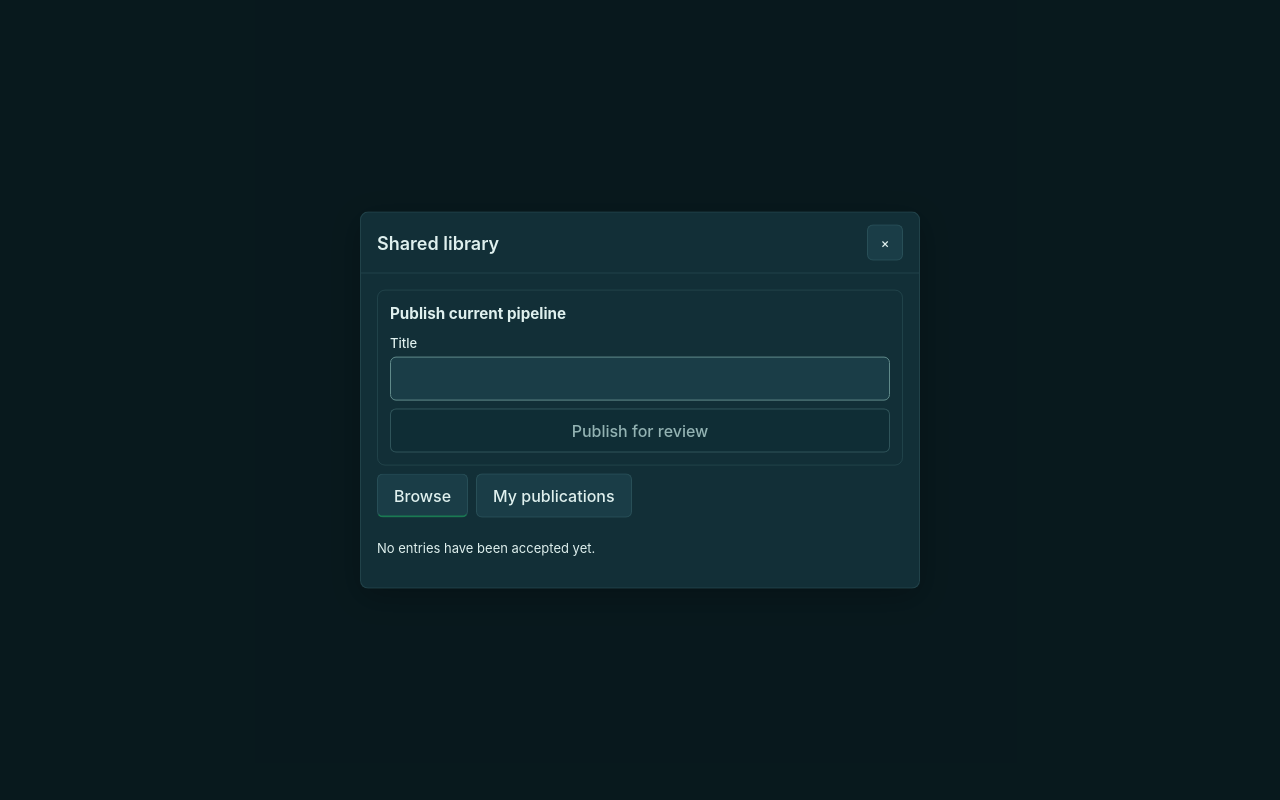
Test: LibraryDialog › names a profile-bound source when publication is refused
Type "Invoice triage" into the field labelled "Title". click: (640, 379)
box: [390,357,890,401]
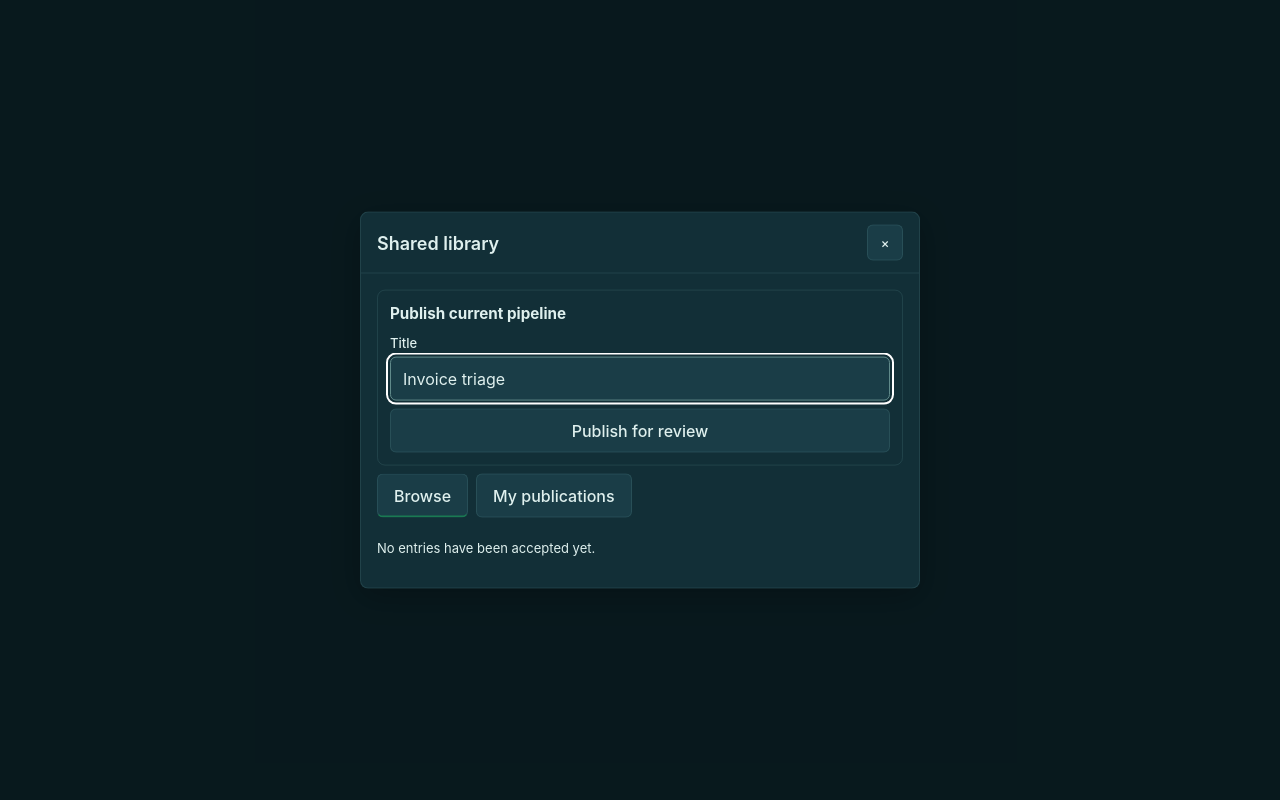
Click the button "Publish for review". click: (640, 431)
box: [390,409,890,453]
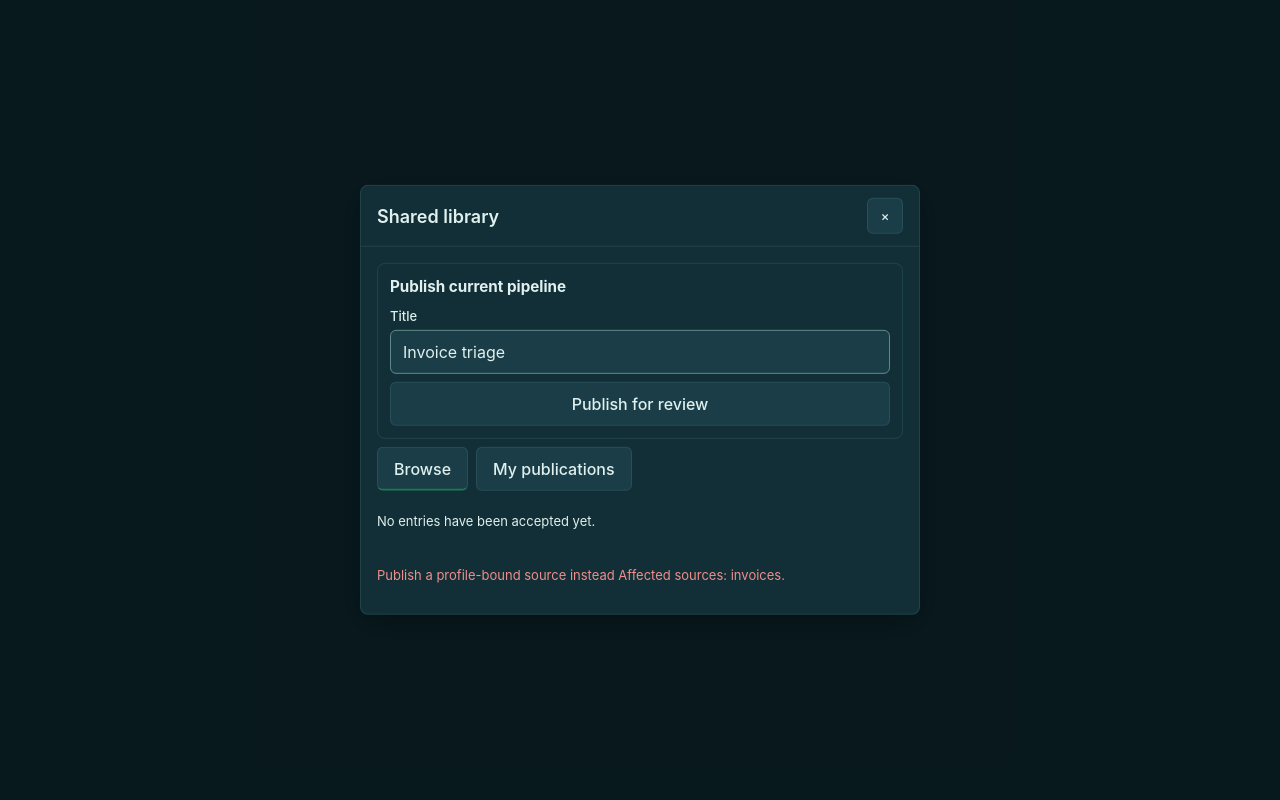
Expected: the message shows "Affected sources: invoices", [377,567,785,583]
